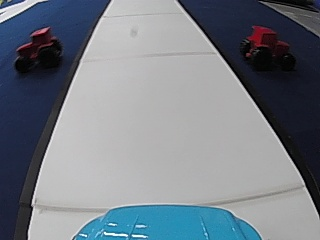tractor: (238, 24, 297, 71), (13, 25, 61, 72)
